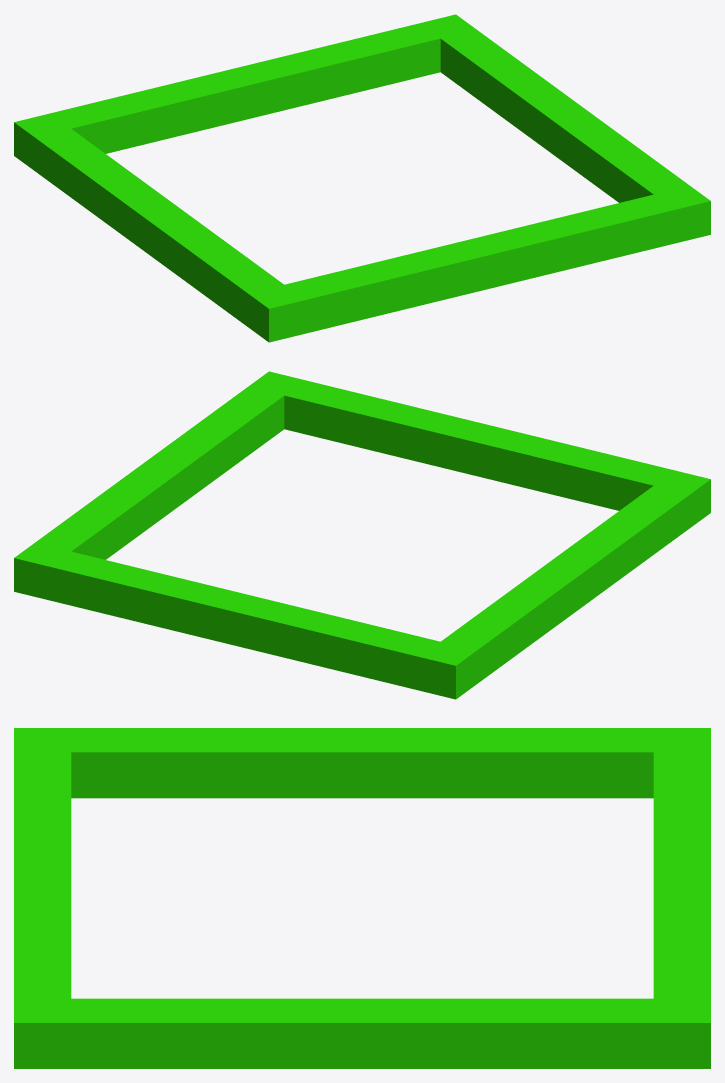
Rendered from Bordes.fbx.
3 renders of one model, top to bottom at view 1: azimuth 30°, elevation 25°; view 2: azimuth 150°, elevation 25°; view 3: azimuth 270°, elevation 25°, orthographic. The views are drawn at different scales.
Visible parts, largest first — view 1: borde__4, borde__2, borde__1, borde__3; view 2: borde__2, borde__4, borde__1, borde__3; view 3: borde__3, borde__1, borde__2, borde__4.
Part boxes in pixels (x1=…): borde__4: x1=285, y1=194, x2=674, y2=333; borde__2: x1=50, y1=23, x2=440, y2=153; borde__1: x1=14, y1=113, x2=305, y2=342; borde__3: x1=420, y1=14, x2=710, y2=243; borde__2: x1=50, y1=551, x2=439, y2=690; borde__4: x1=284, y1=380, x2=674, y2=510; borde__1: x1=419, y1=470, x2=710, y2=699; borde__3: x1=14, y1=371, x2=304, y2=600; borde__3: x1=14, y1=998, x2=710, y2=1068; borde__1: x1=14, y1=728, x2=710, y2=798; borde__2: x1=653, y1=752, x2=710, y2=998; borde__4: x1=14, y1=752, x2=71, y2=998.
Bounding box in the file's own units: 5490 × 400 × 5488.
